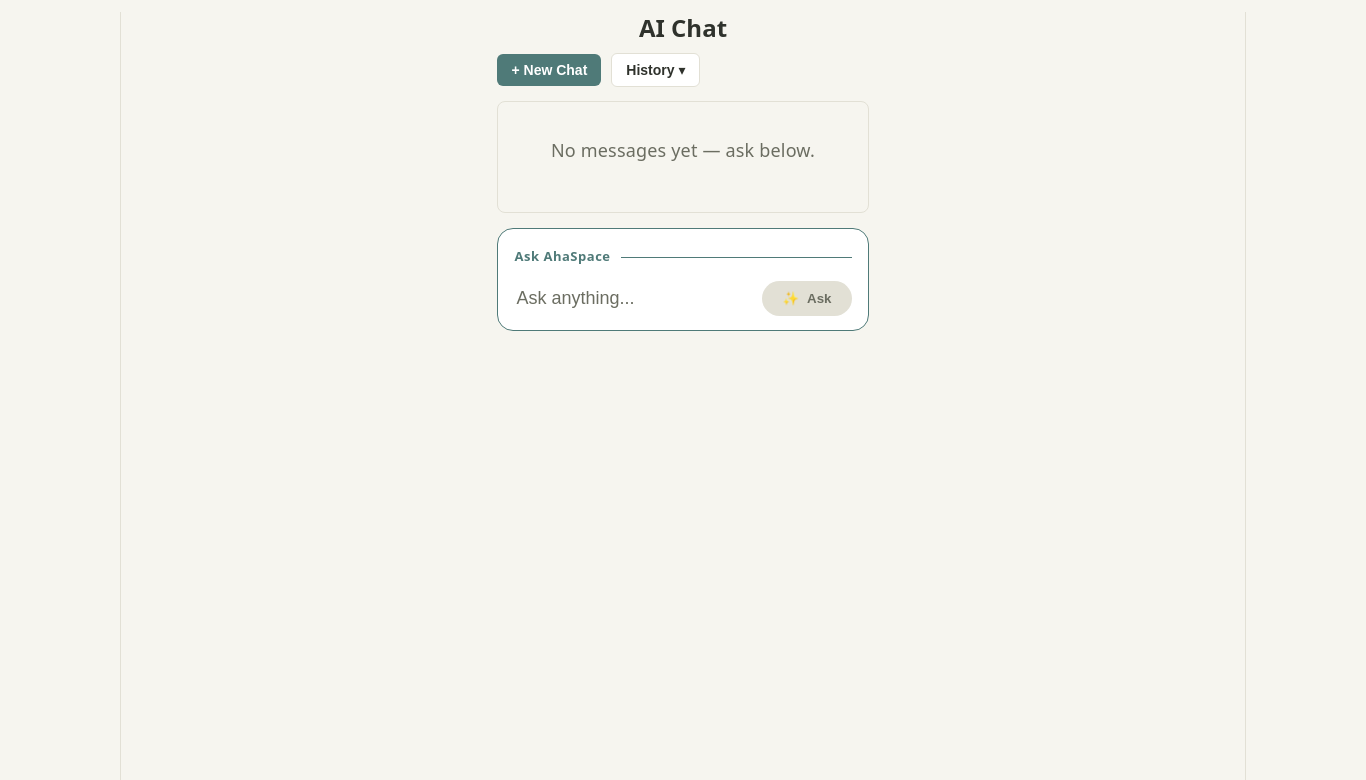
Test: Chat Component › displays AI response after receiving it
Type "Hello" into the field with placeholder "Ask anything...". click: (632, 299)
box: [514,287,750,310]
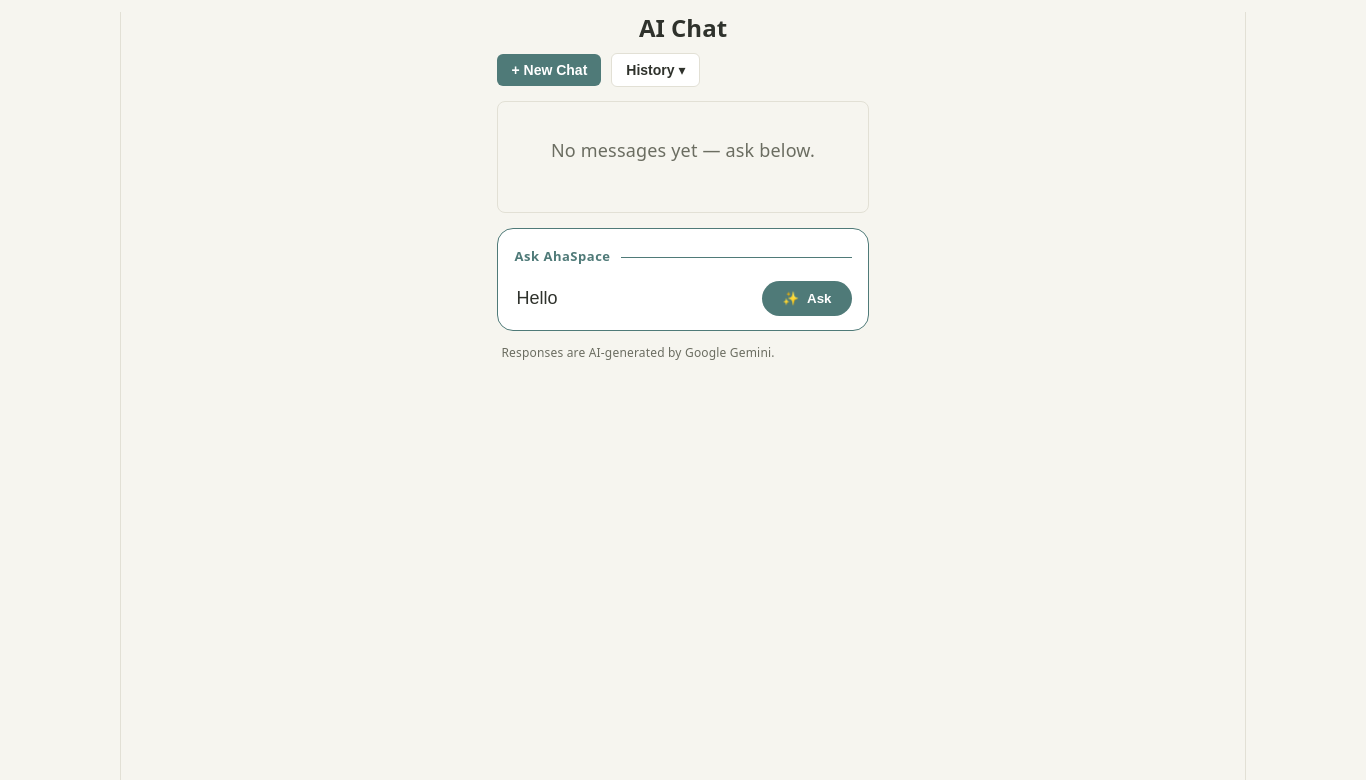
Click the button "✨ Ask". click: click(807, 299)
box: [762,281,852,316]
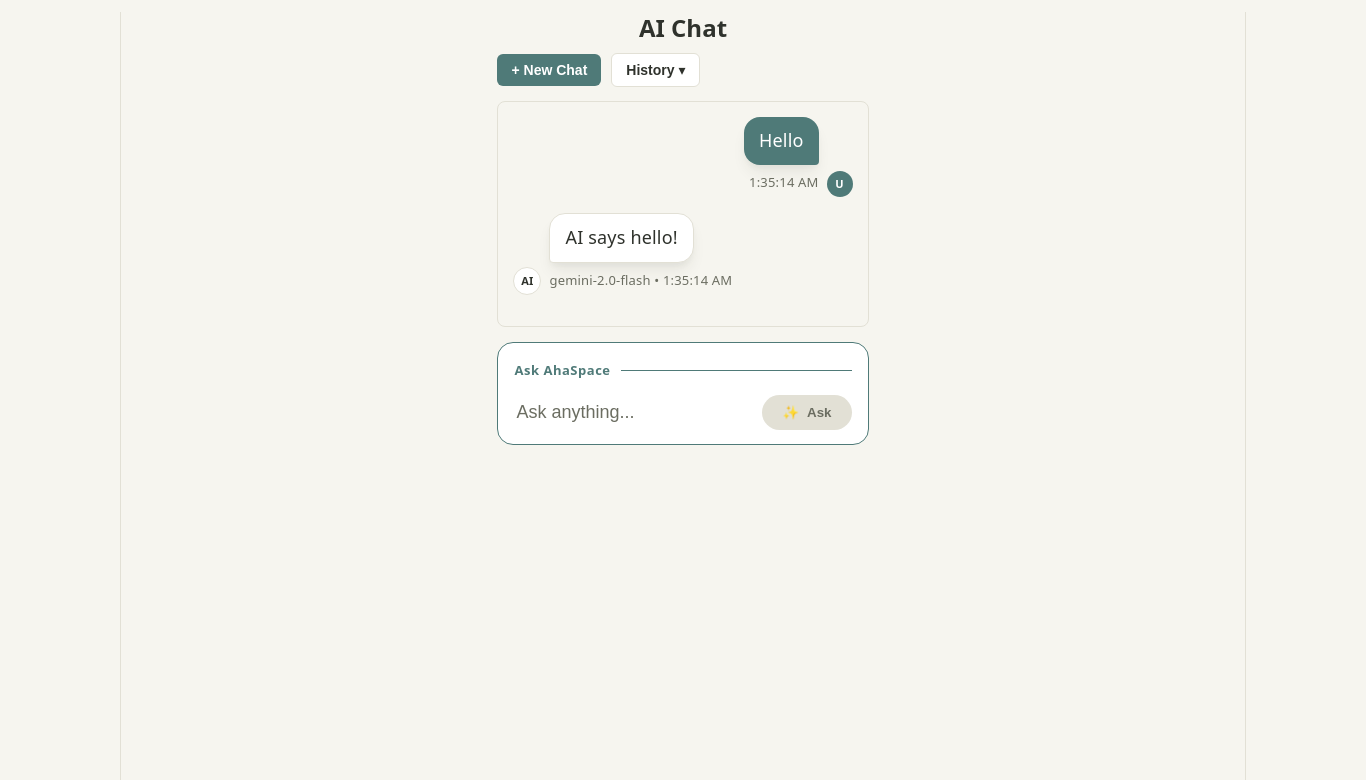
Expected: the text "AI says hello!" is shown, [566,224,678,252]
